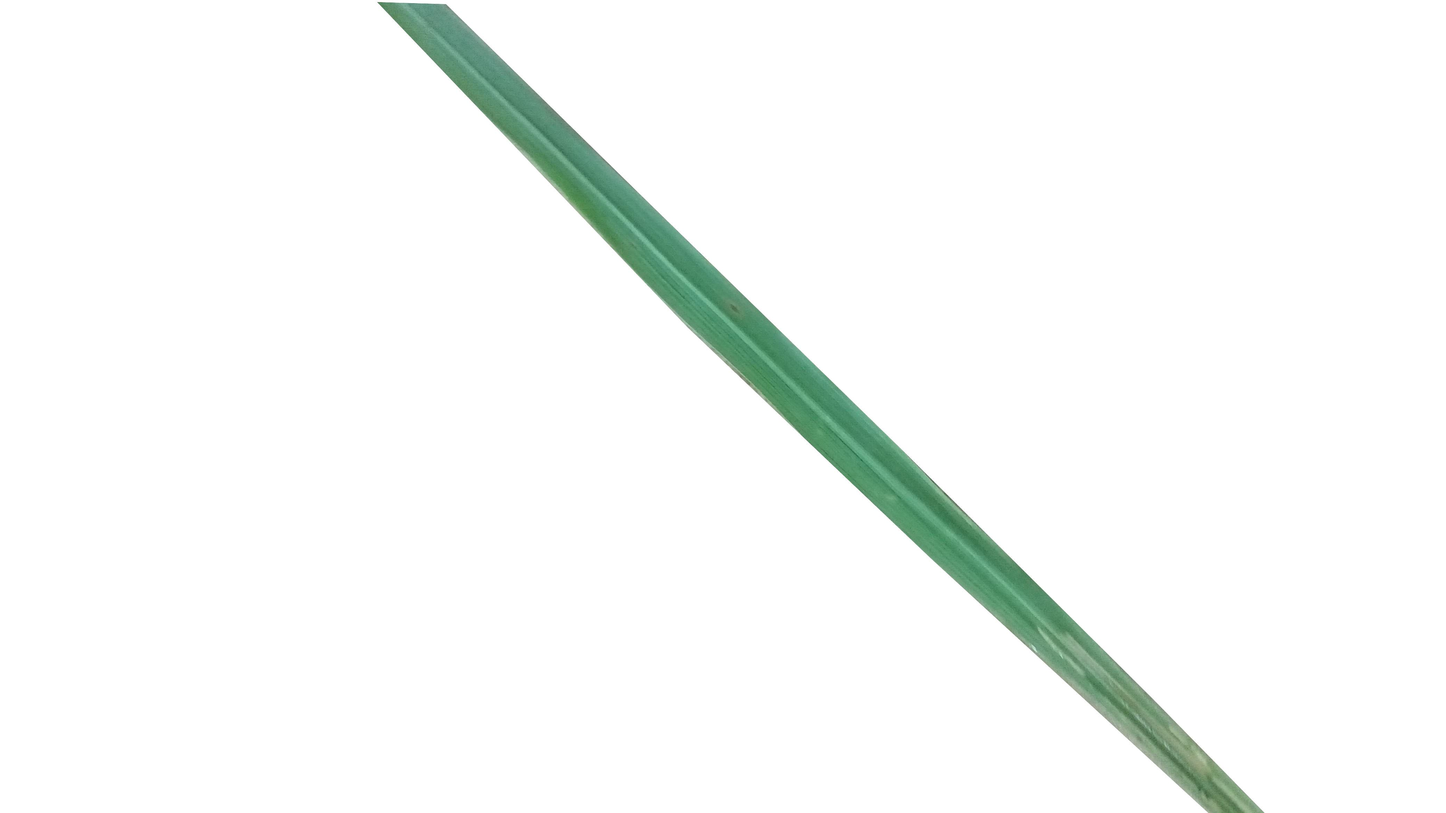Brown spot: (724, 300, 746, 322)
